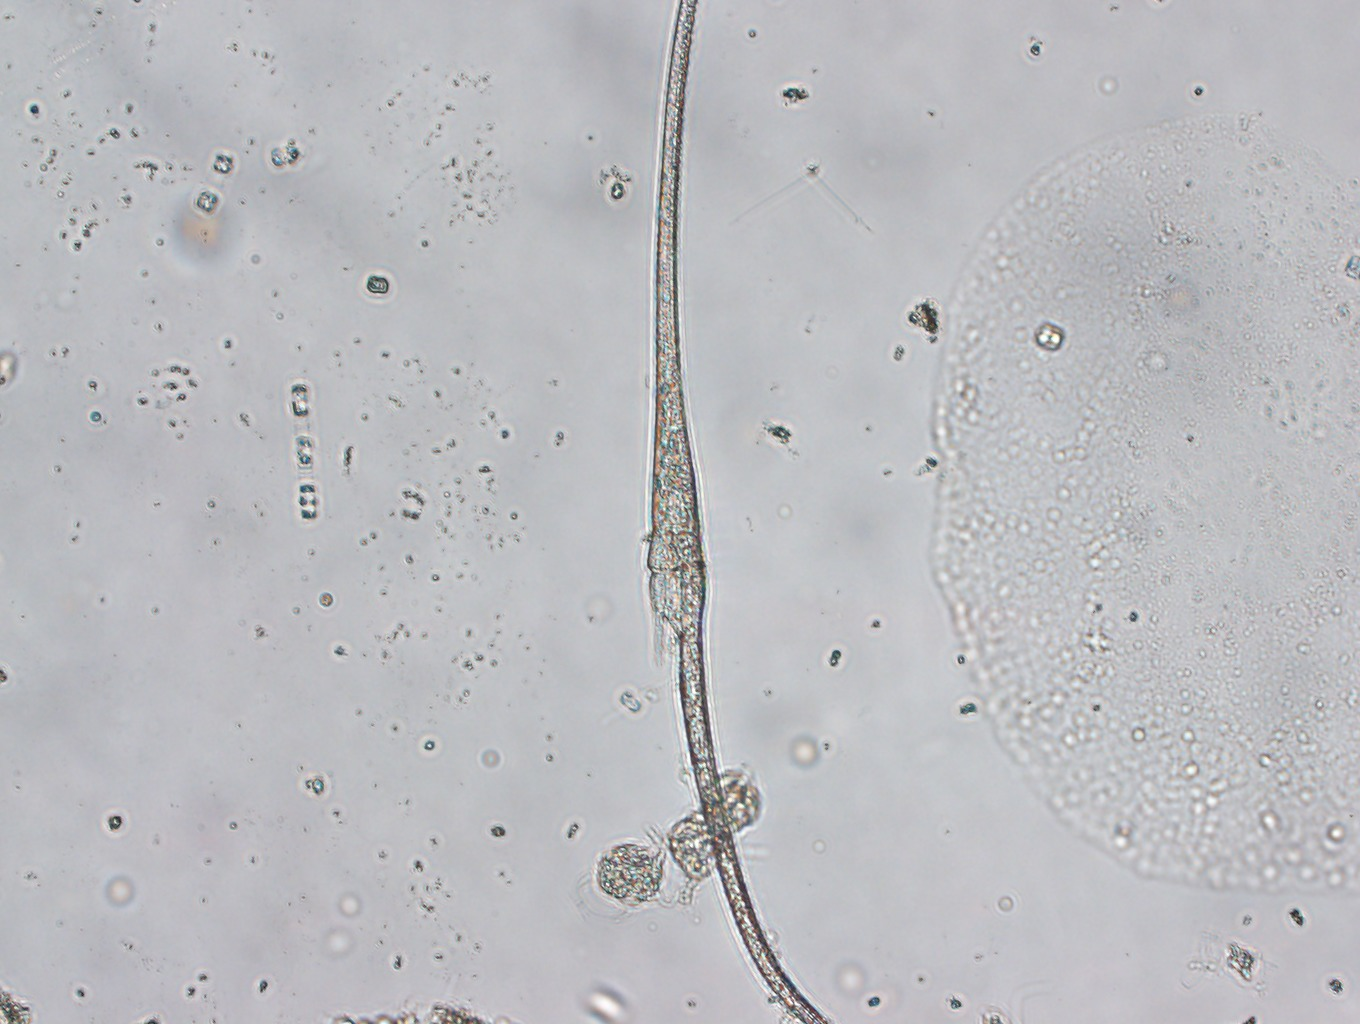ceratium fusus: (645, 1, 829, 1024)
skeletonema: (289, 380, 317, 524)
